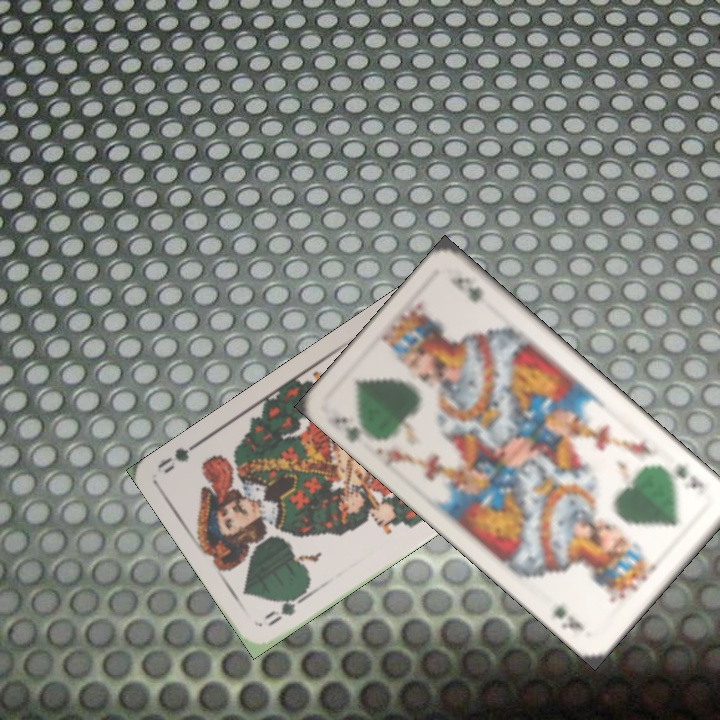GK: (671, 459, 708, 498), (330, 412, 364, 445)
GO: (259, 584, 313, 630)
